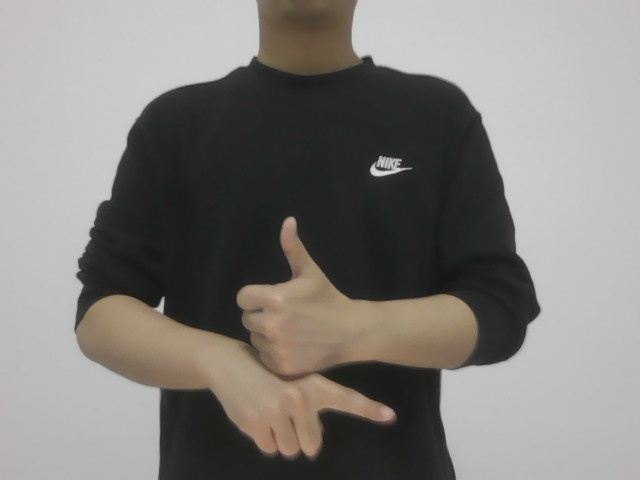birthday: (210, 216, 401, 468)
